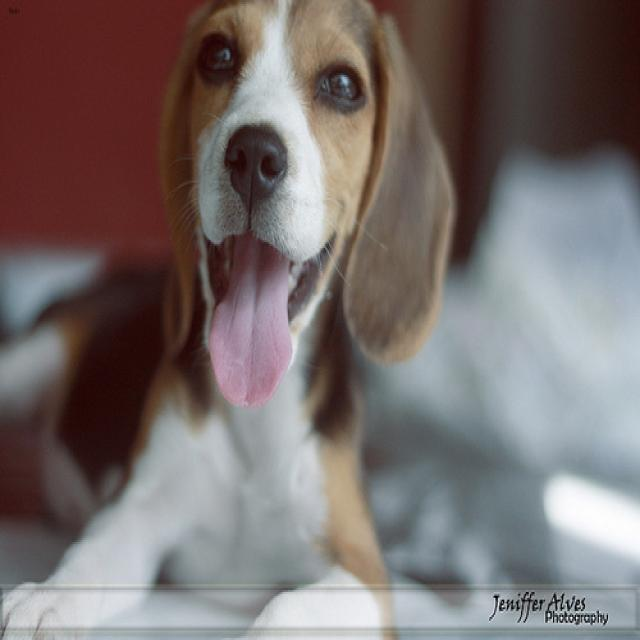dog-beagle: (1, 2, 462, 636)
